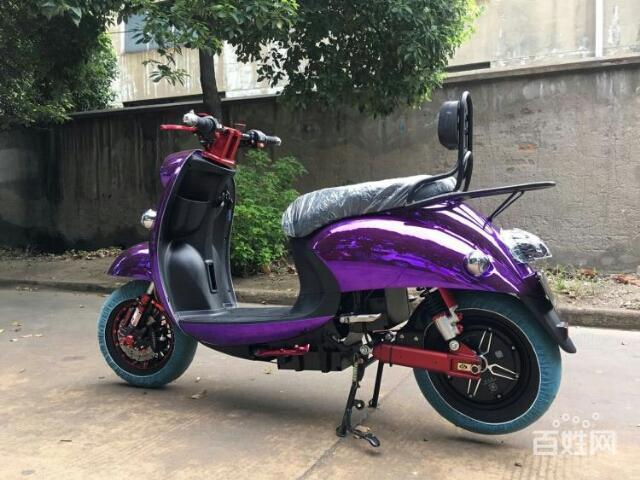电动车: (88, 75, 592, 458)
